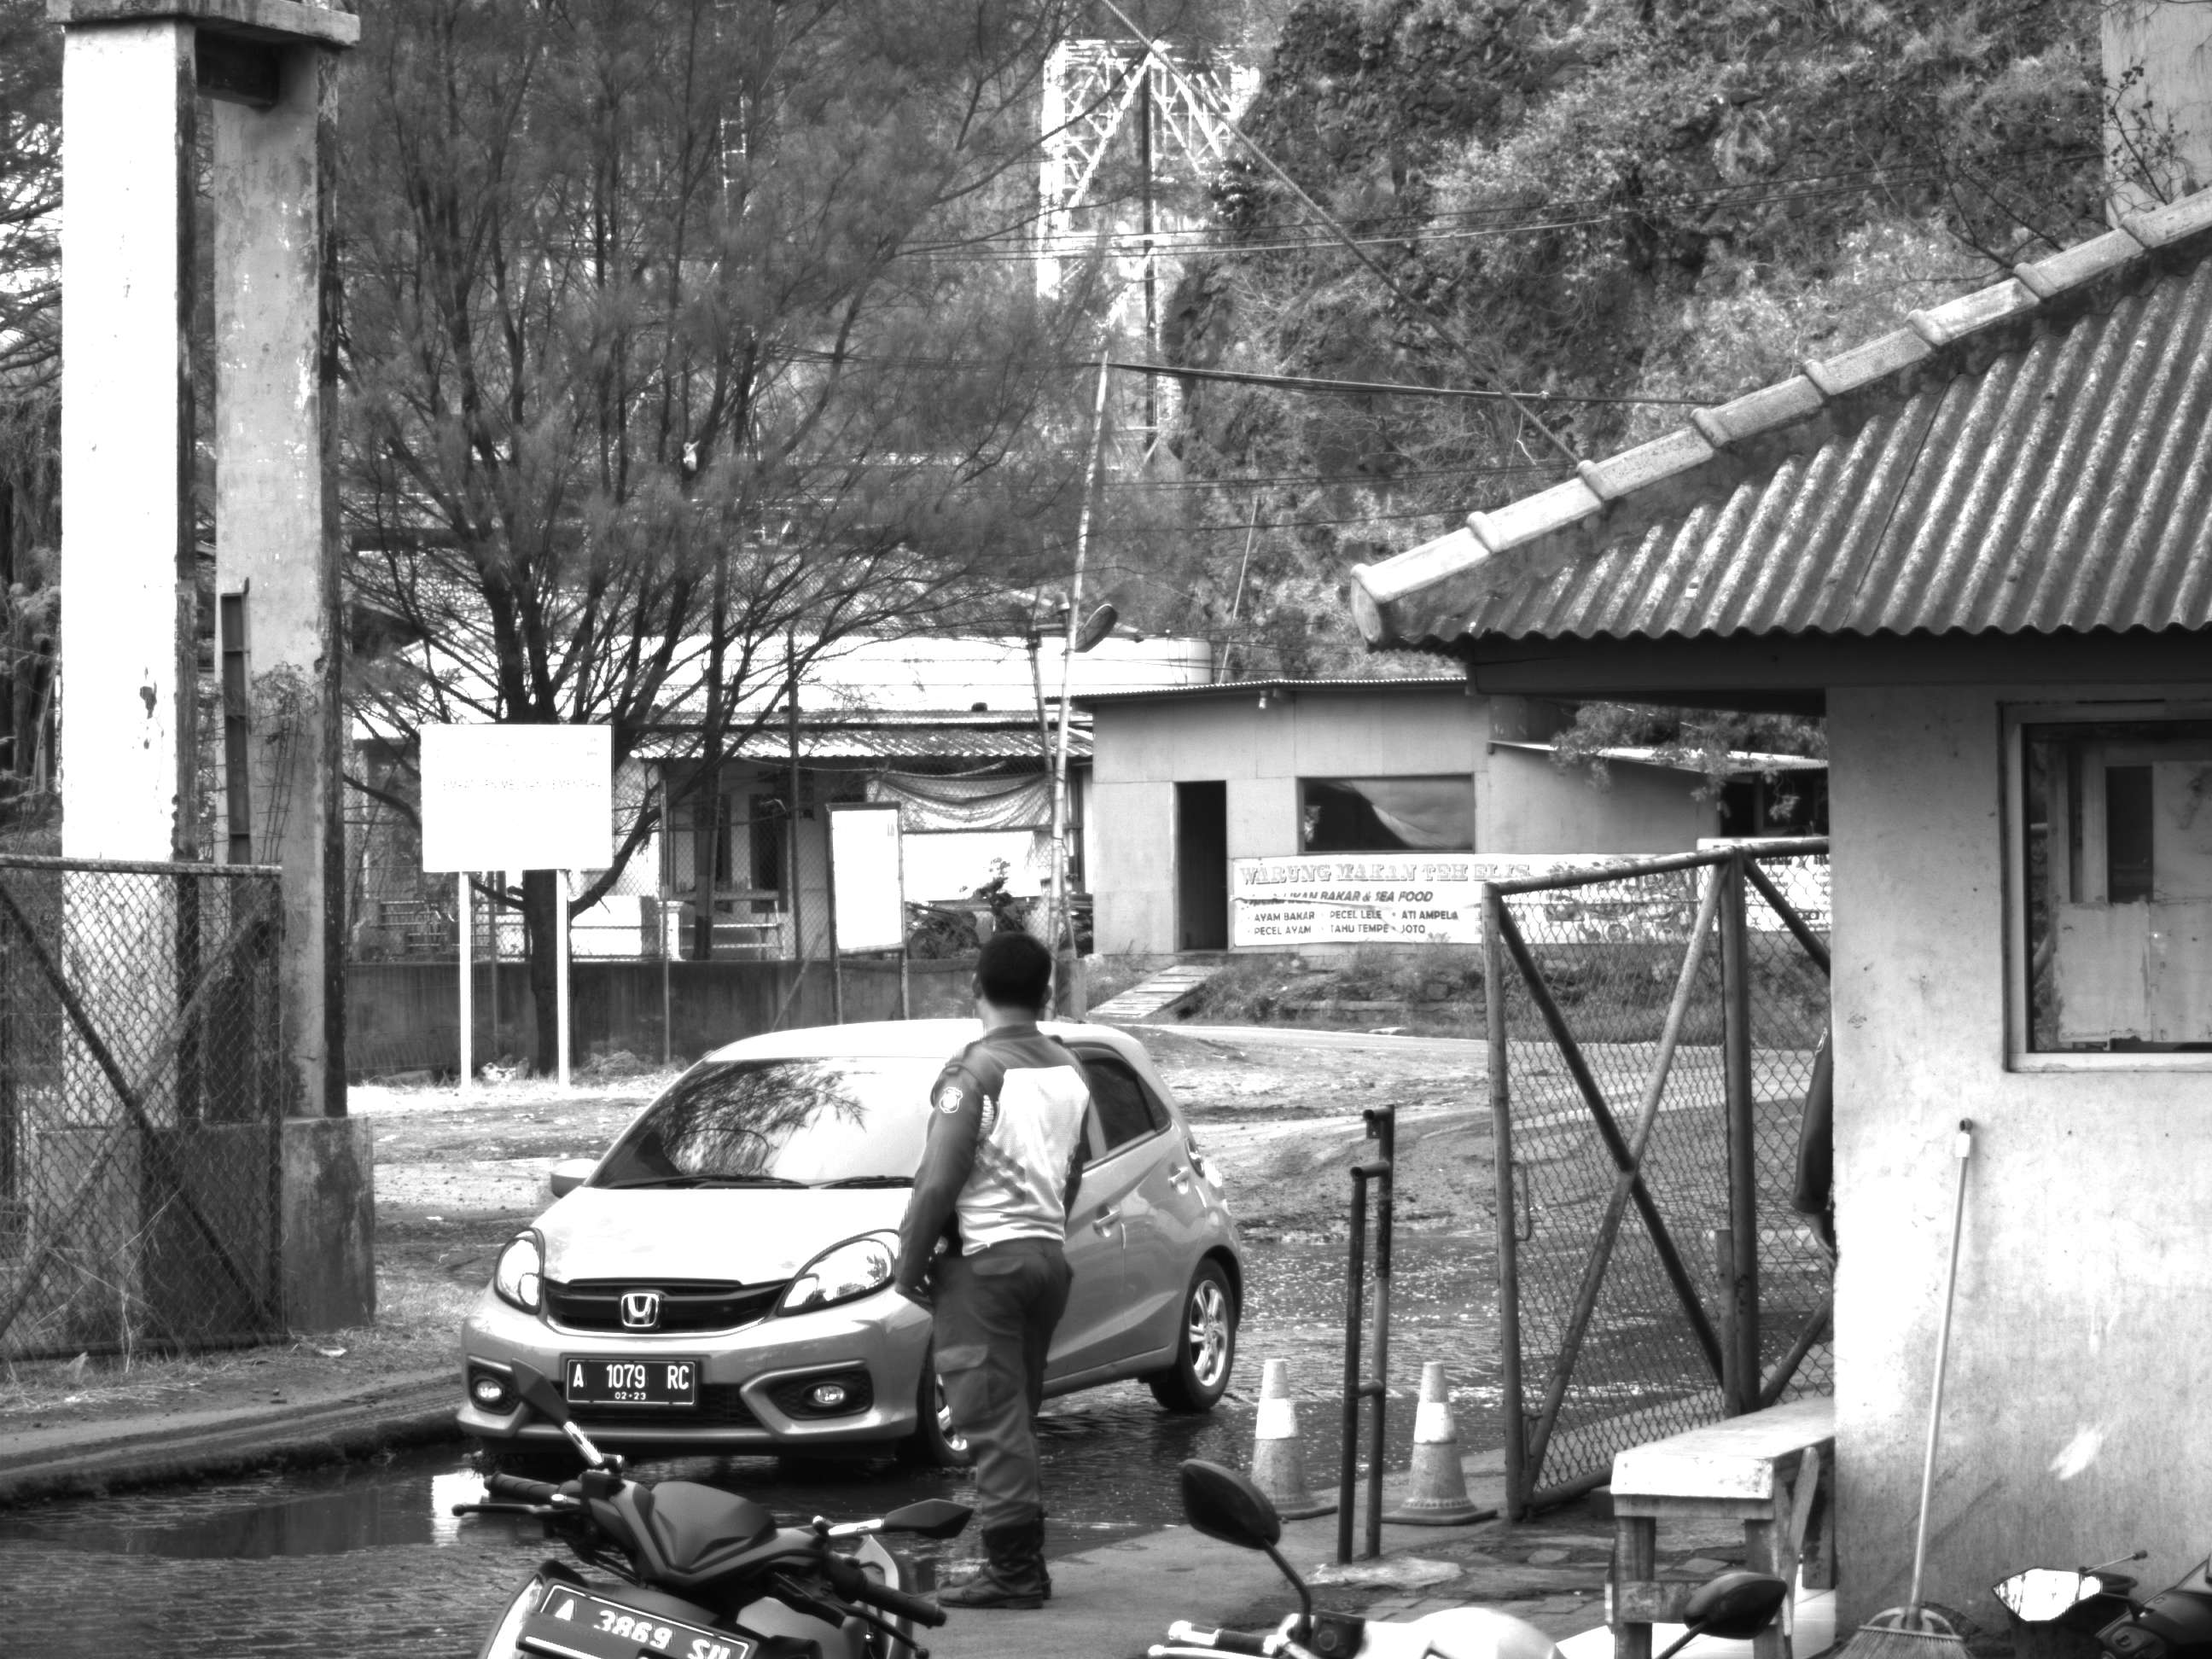day_small_front: (451, 1019, 1069, 1481)
plate: (564, 1359, 710, 1410)
